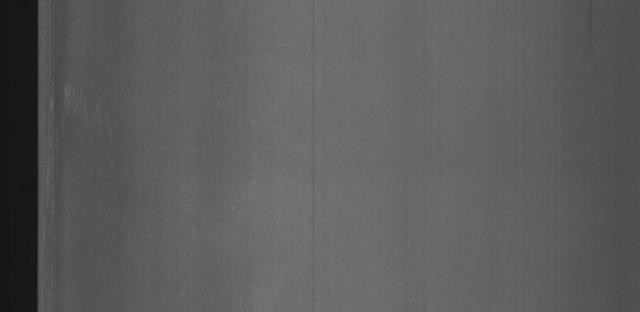silk_spot: (44, 53, 76, 297)
